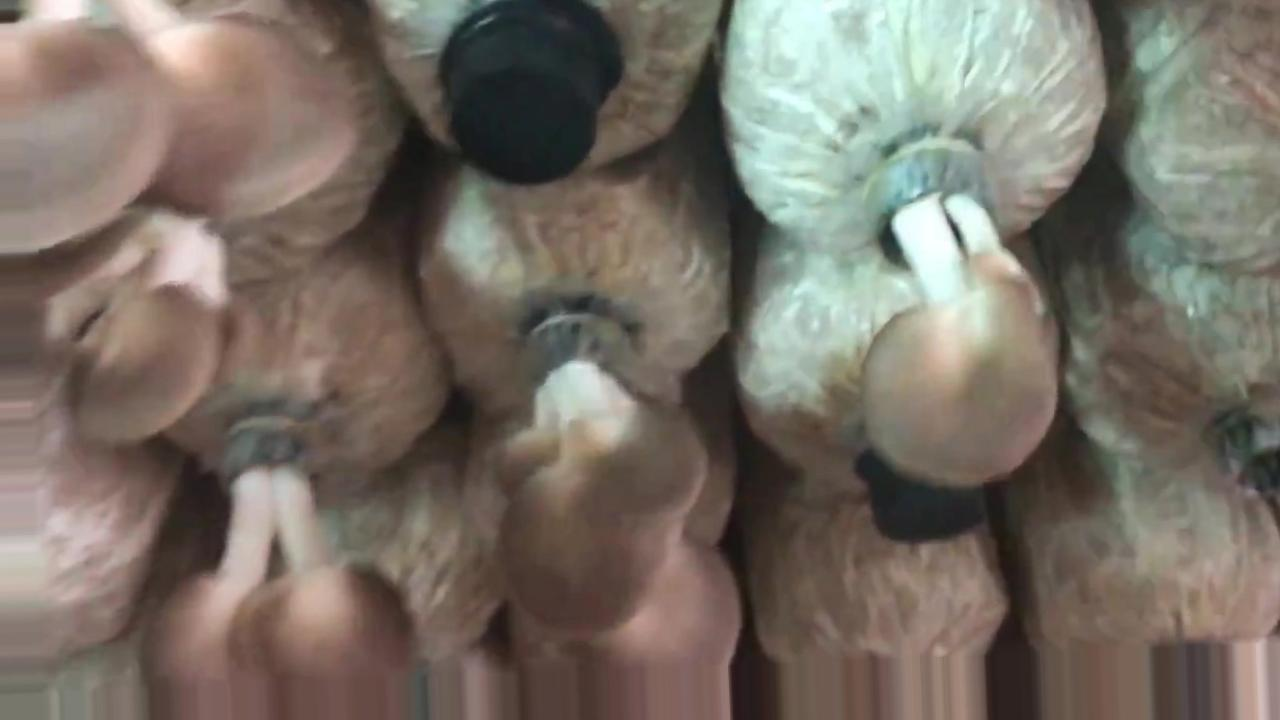nam: (498, 319, 742, 720), (1, 1, 352, 255), (144, 416, 414, 719), (859, 142, 1052, 485), (45, 216, 252, 443)
